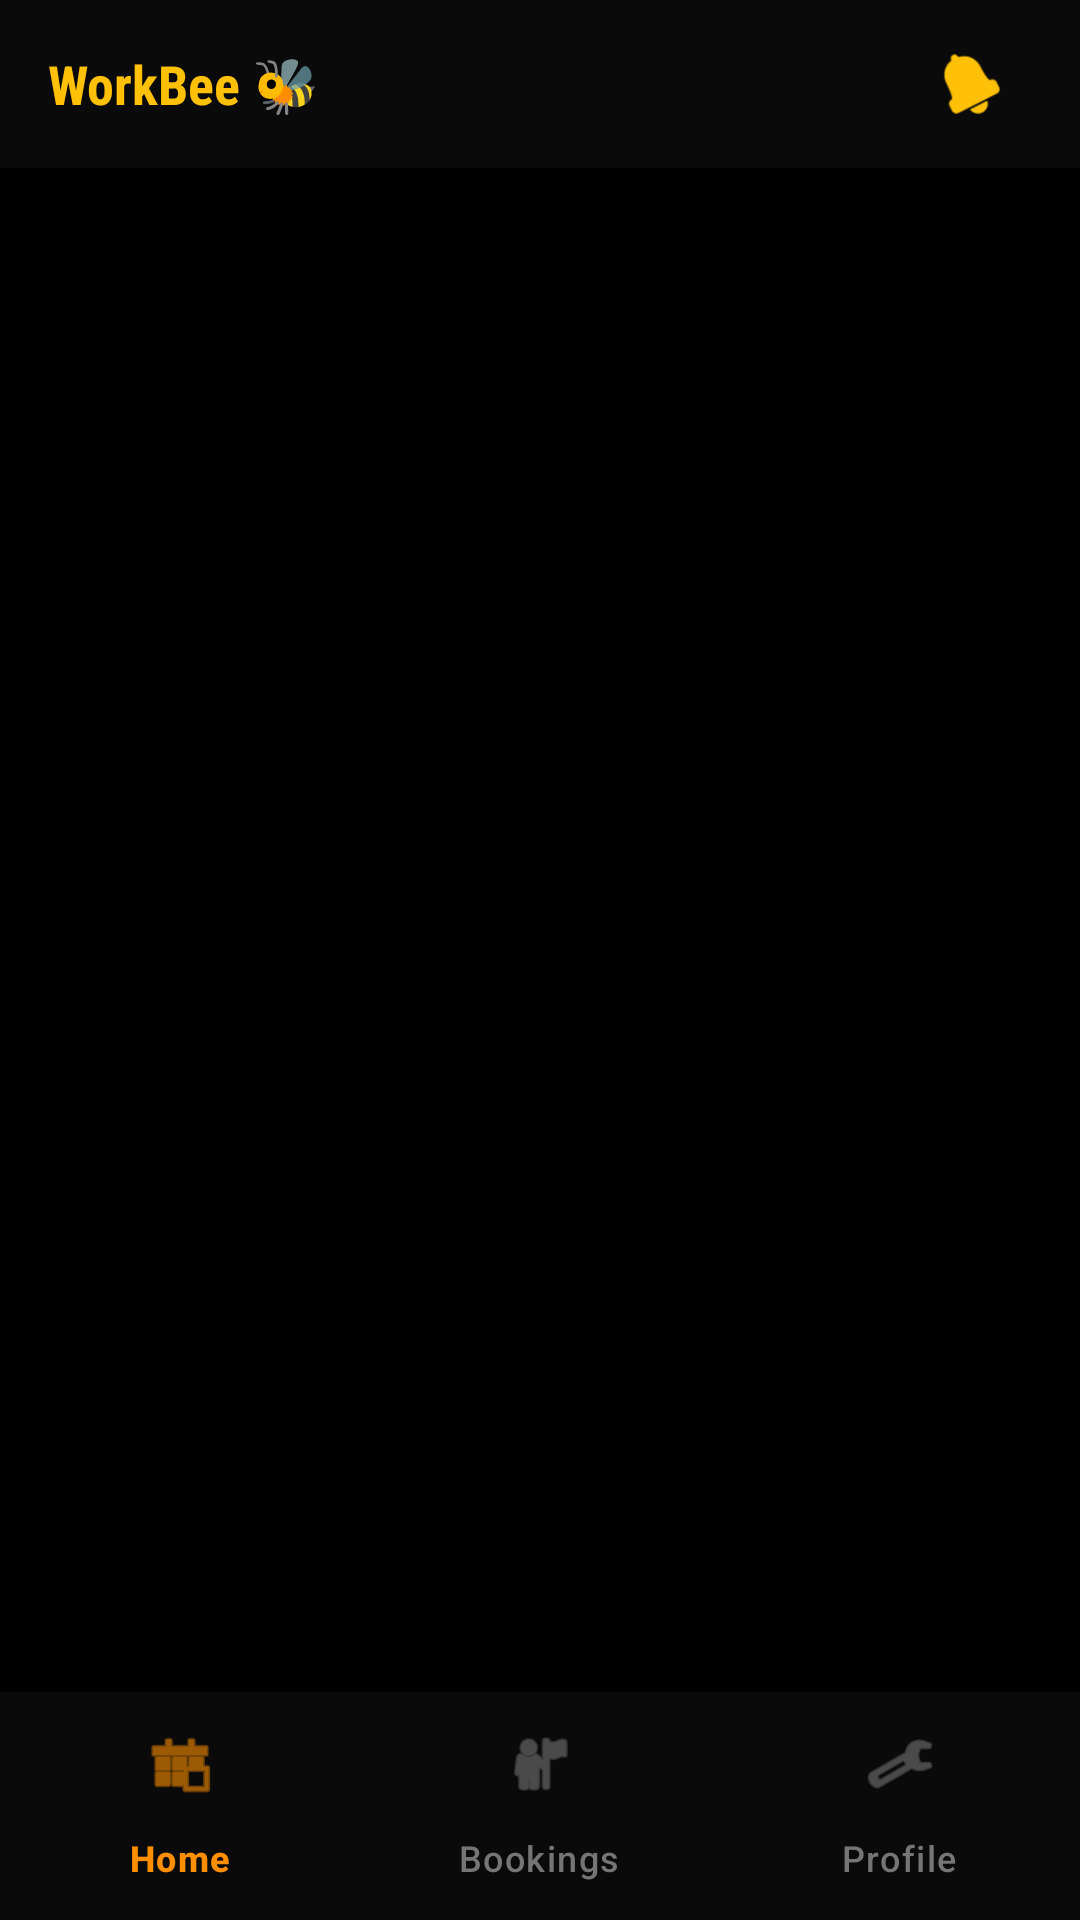

Icon click points for this 1080 x 1920 phone screenshot, format [x,y]:
popup reminder: [972,84]
